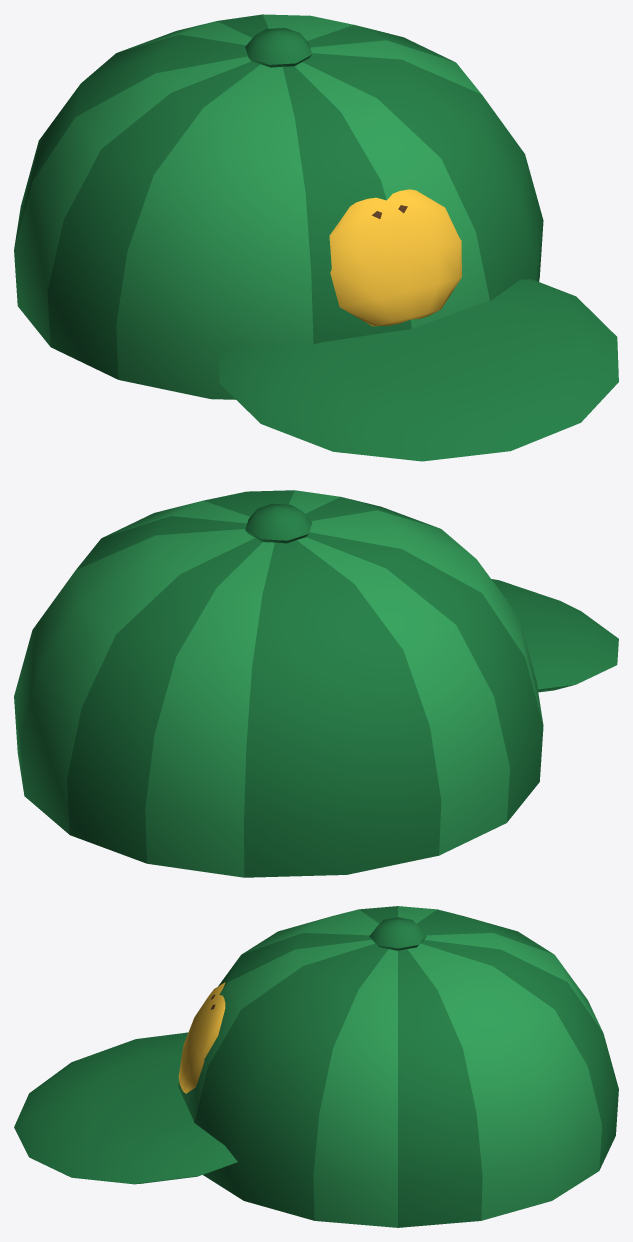
File: H01_ZooCap.fbx
The picture shows the model from 3 angles, top to bottom: view 1: azimuth 30°, elevation 25°; view 2: azimuth 150°, elevation 25°; view 3: azimuth 270°, elevation 25°; orthographic projection. The views are drawn at different scales.
Visible parts, largest first — view 1: H01_ZooCap; view 2: H01_ZooCap; view 3: H01_ZooCap.
Part boxes in pixels (x1,y1,x2,y2): H01_ZooCap: [14, 14, 618, 461]; H01_ZooCap: [14, 490, 618, 877]; H01_ZooCap: [14, 906, 618, 1227].
Size of the model in its own units: 0.43 by 0.23 by 0.5885.
